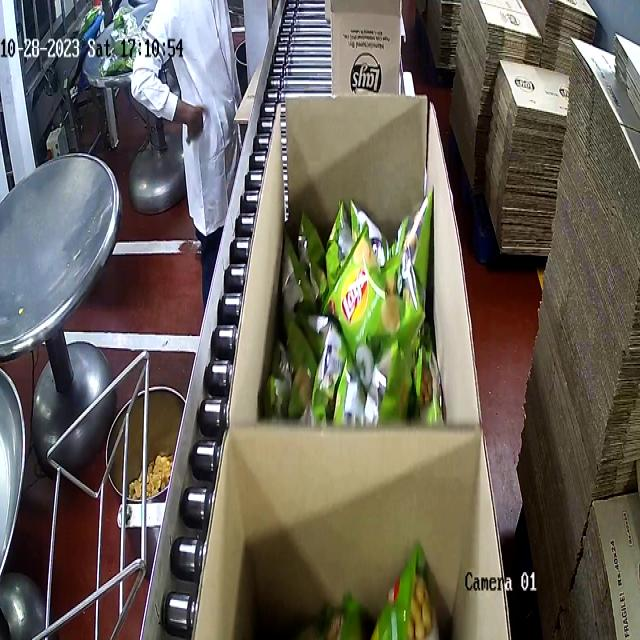YOGURT_HERB: (262, 198, 449, 419)
